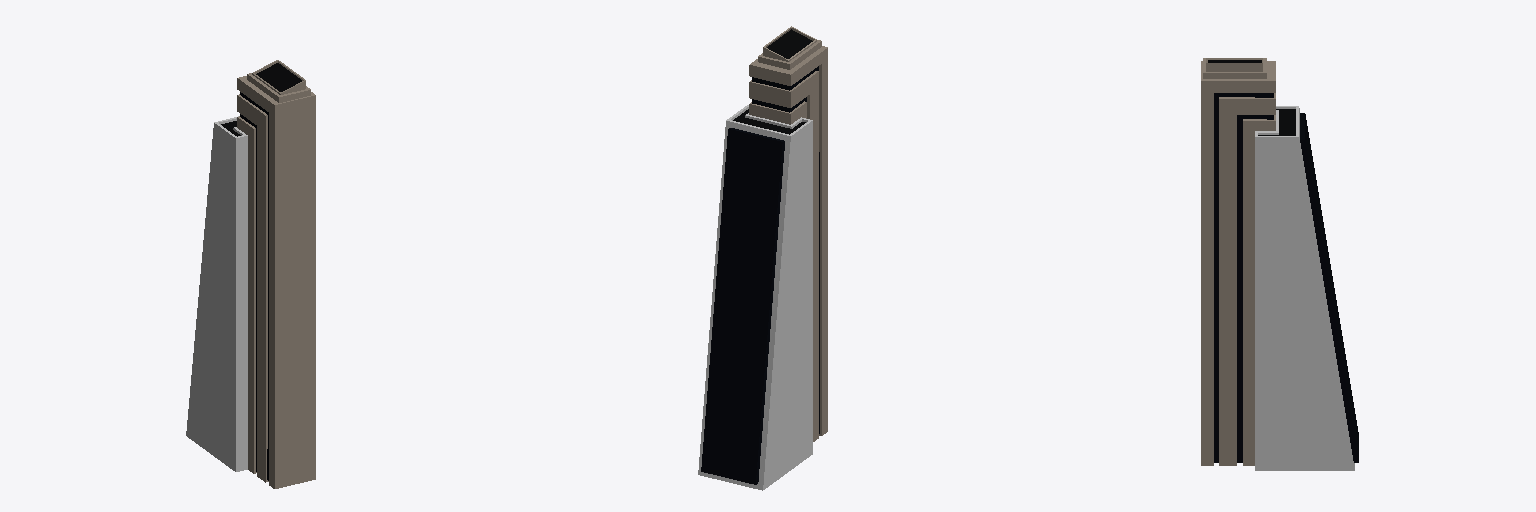
The model's file is buildingK2.obj.
3 views of the same model, side by side, from view 1: azimuth 30°, elevation 25°; view 2: azimuth 150°, elevation 25°; view 3: azimuth 270°, elevation 25° (orthographic).
Visible parts, largest first — view 1: Cube.017_Cube.018; view 2: Cube.017_Cube.018; view 3: Cube.017_Cube.018.
Part boxes in pixels (bbox=[...]): Cube.017_Cube.018: bbox=[186, 60, 315, 488]; Cube.017_Cube.018: bbox=[698, 26, 827, 490]; Cube.017_Cube.018: bbox=[1201, 58, 1358, 470].
Bounding box in the file's own units: 11.05 × 64.88 × 23.32.